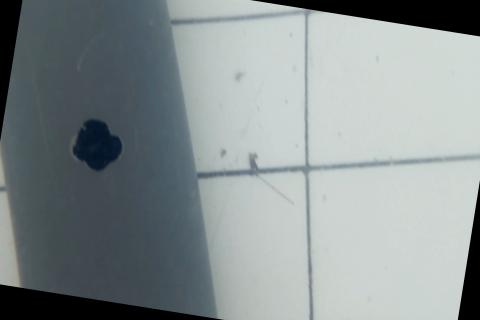kebocoran: (66, 111, 128, 177)
